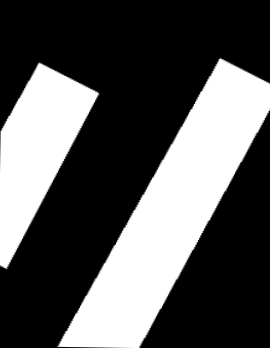parkingspot: (58, 58, 270, 348), (0, 63, 99, 269)
